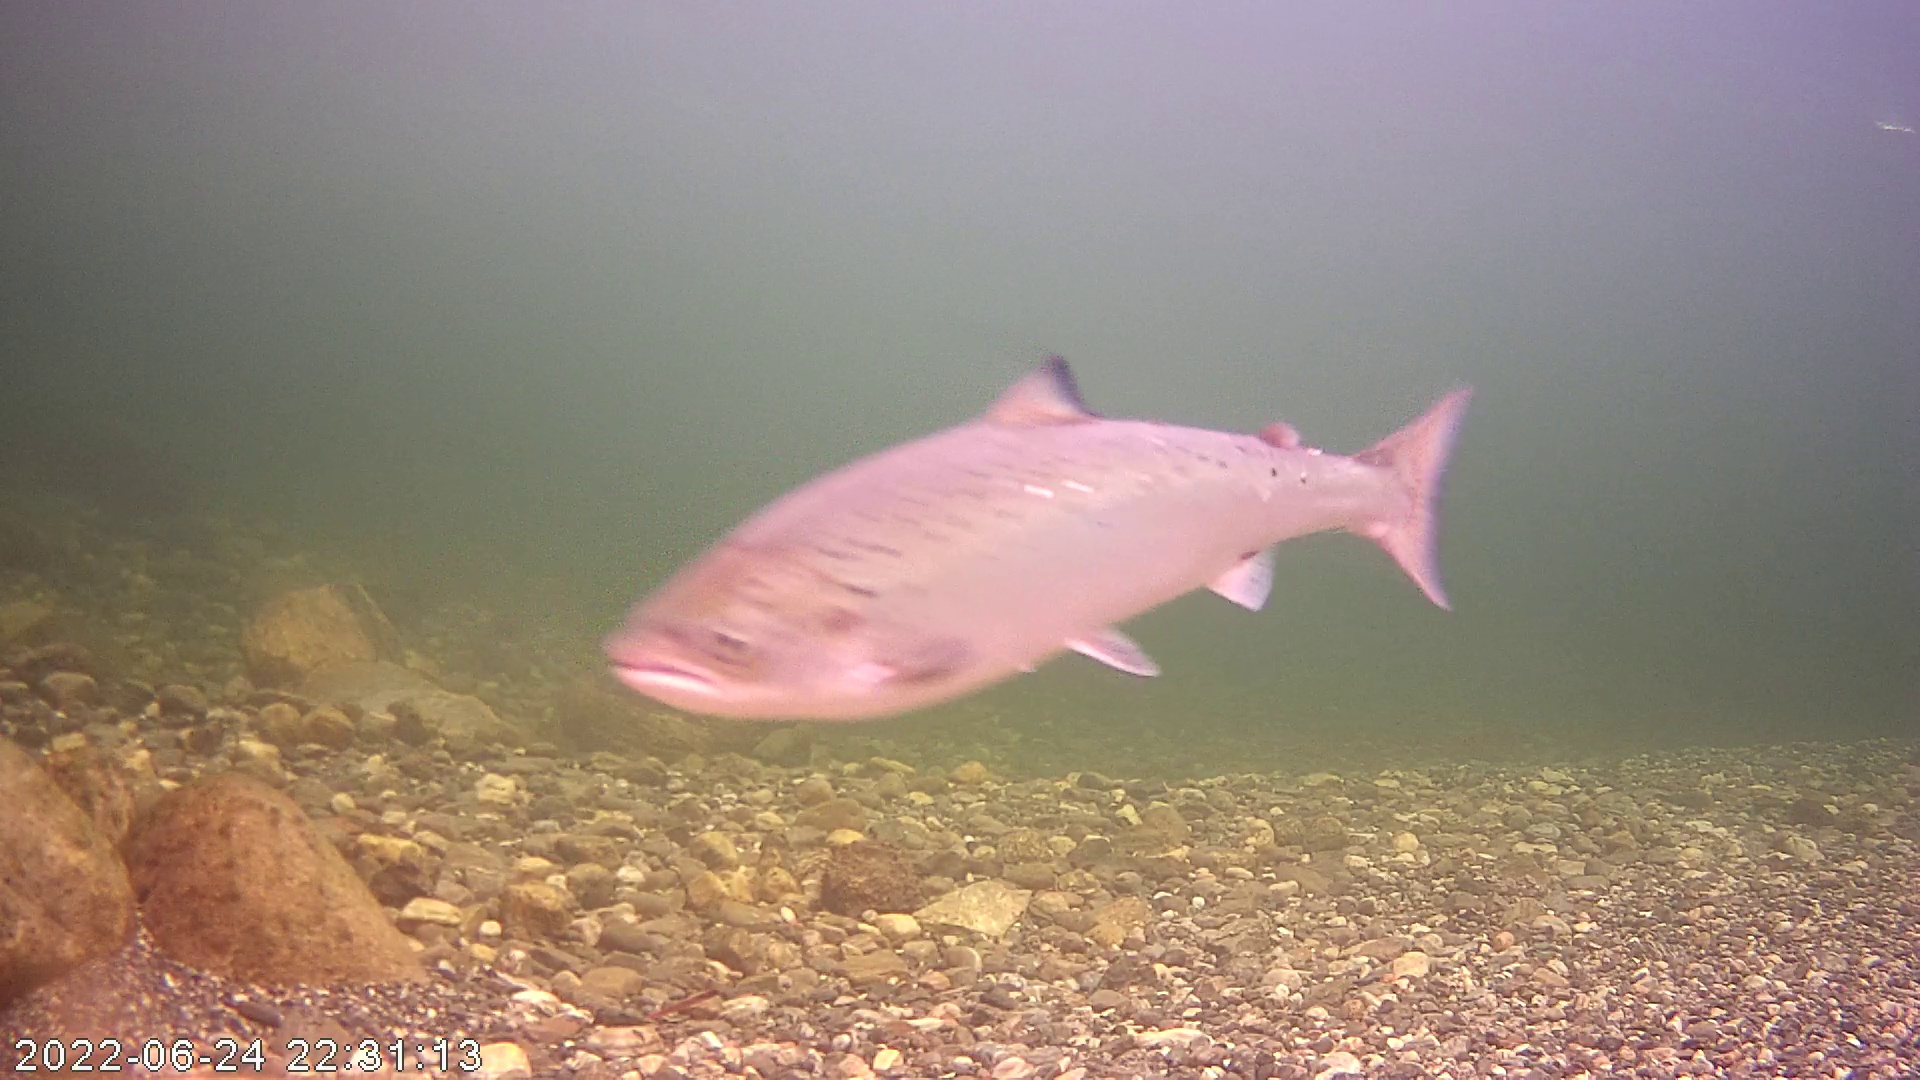salmon: (600, 353, 1473, 727)
